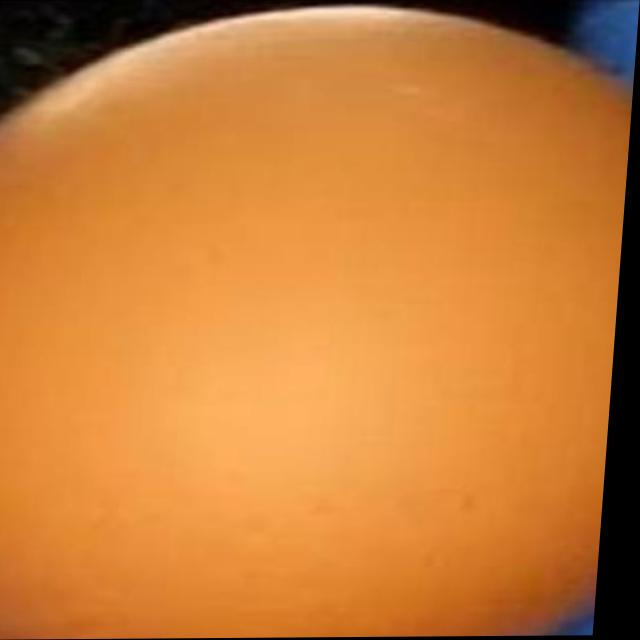fresh: (0, 1, 640, 640)
